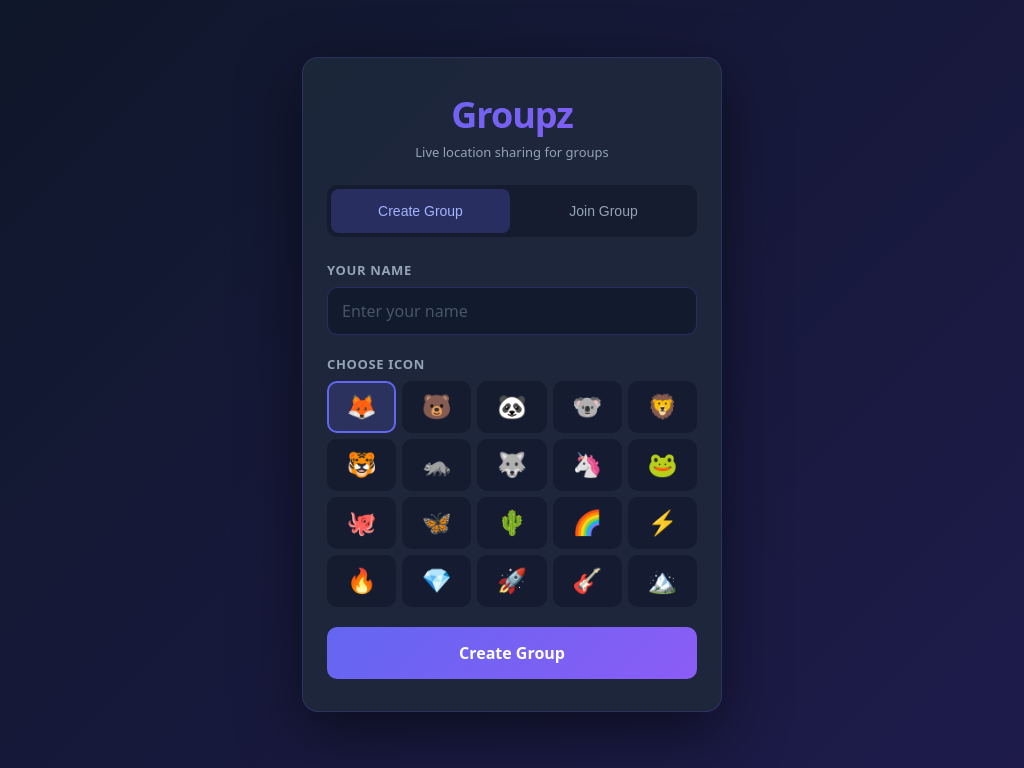
Test: Home › socket interaction › submit button is disabled while loading
This screenshot has width=1024, height=768.
Type "Alice" into the field with placeholder "Enter your name".
click(512, 310); type("Alice")  # box 327,286 -> 697,334
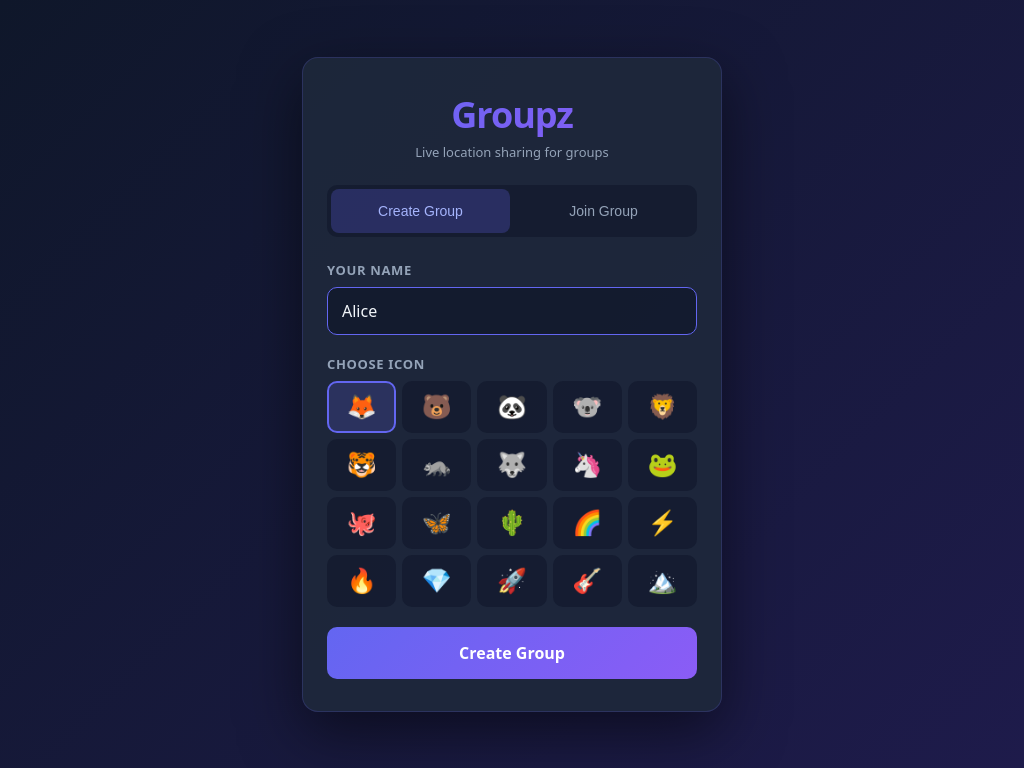
Click the submit button.
click(512, 652)  # box 327,626 -> 697,678
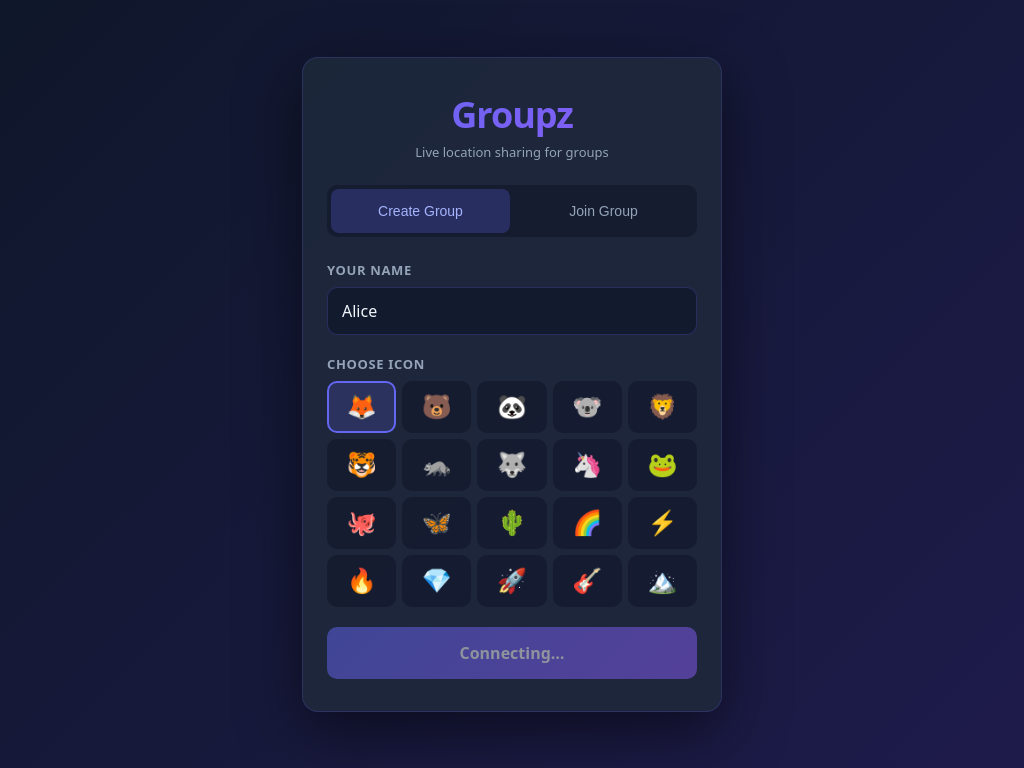
Result: the submit button is disabled at 327,626 -> 697,678
